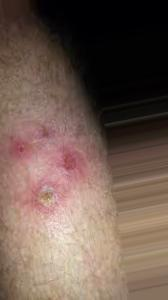Spider: (0, 124, 84, 216)
